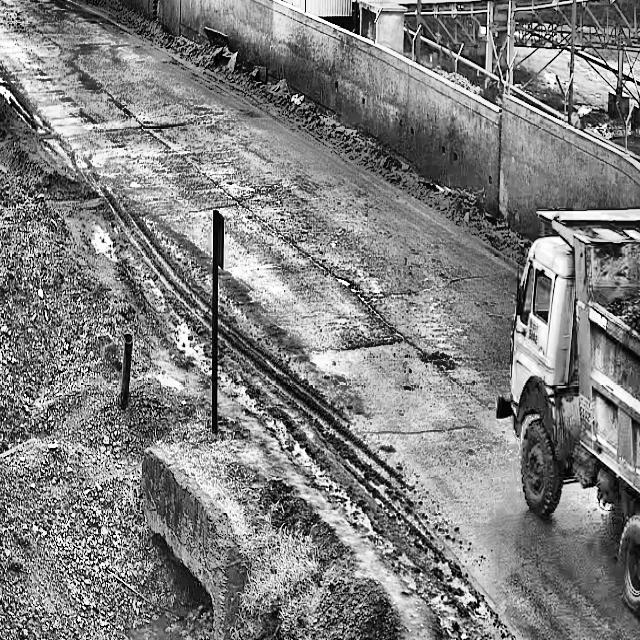dump_truck: (492, 185, 640, 640)
